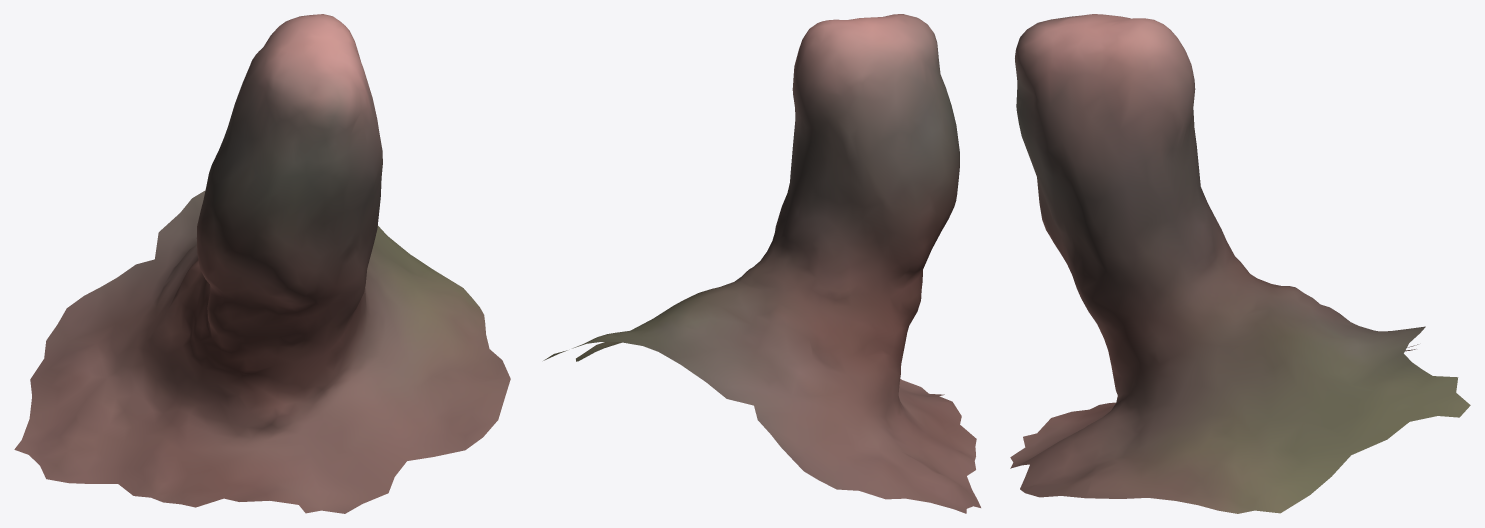
Rendered from LODS_Cloud_global_7.glb.
3 views of the same model, side by side, from view 1: azimuth 30°, elevation 25°; view 2: azimuth 150°, elevation 25°; view 3: azimuth 270°, elevation 25° (orthographic). The views are drawn at different scales.
Visible parts, largest first — view 1: LOD0; view 2: LOD0; view 3: LOD0.
Boxes of the visible parts, x1,y1,x2,y2 form: LOD0: (14,14,510,513); LOD0: (543,14,980,513); LOD0: (1010,14,1470,513).
Size of what is drawn, in the model's own units: 0.1408 by 0.1362 by 0.1249.
